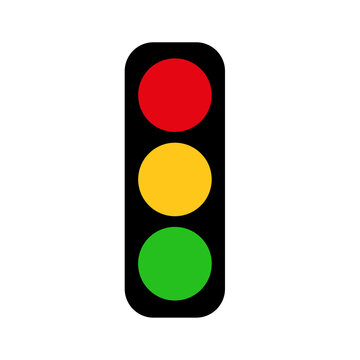TraficLight: (111, 41, 246, 330)
